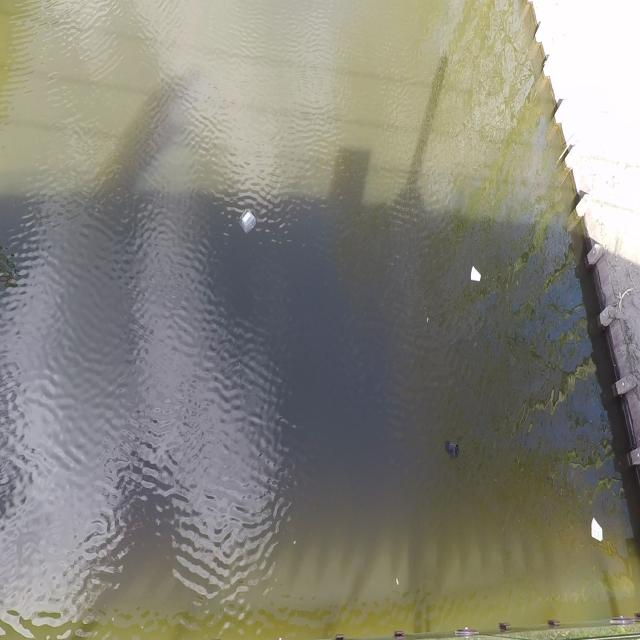Autre plastique: (238, 202, 260, 236)
Non plastique: (590, 513, 608, 547), (466, 264, 484, 284)
